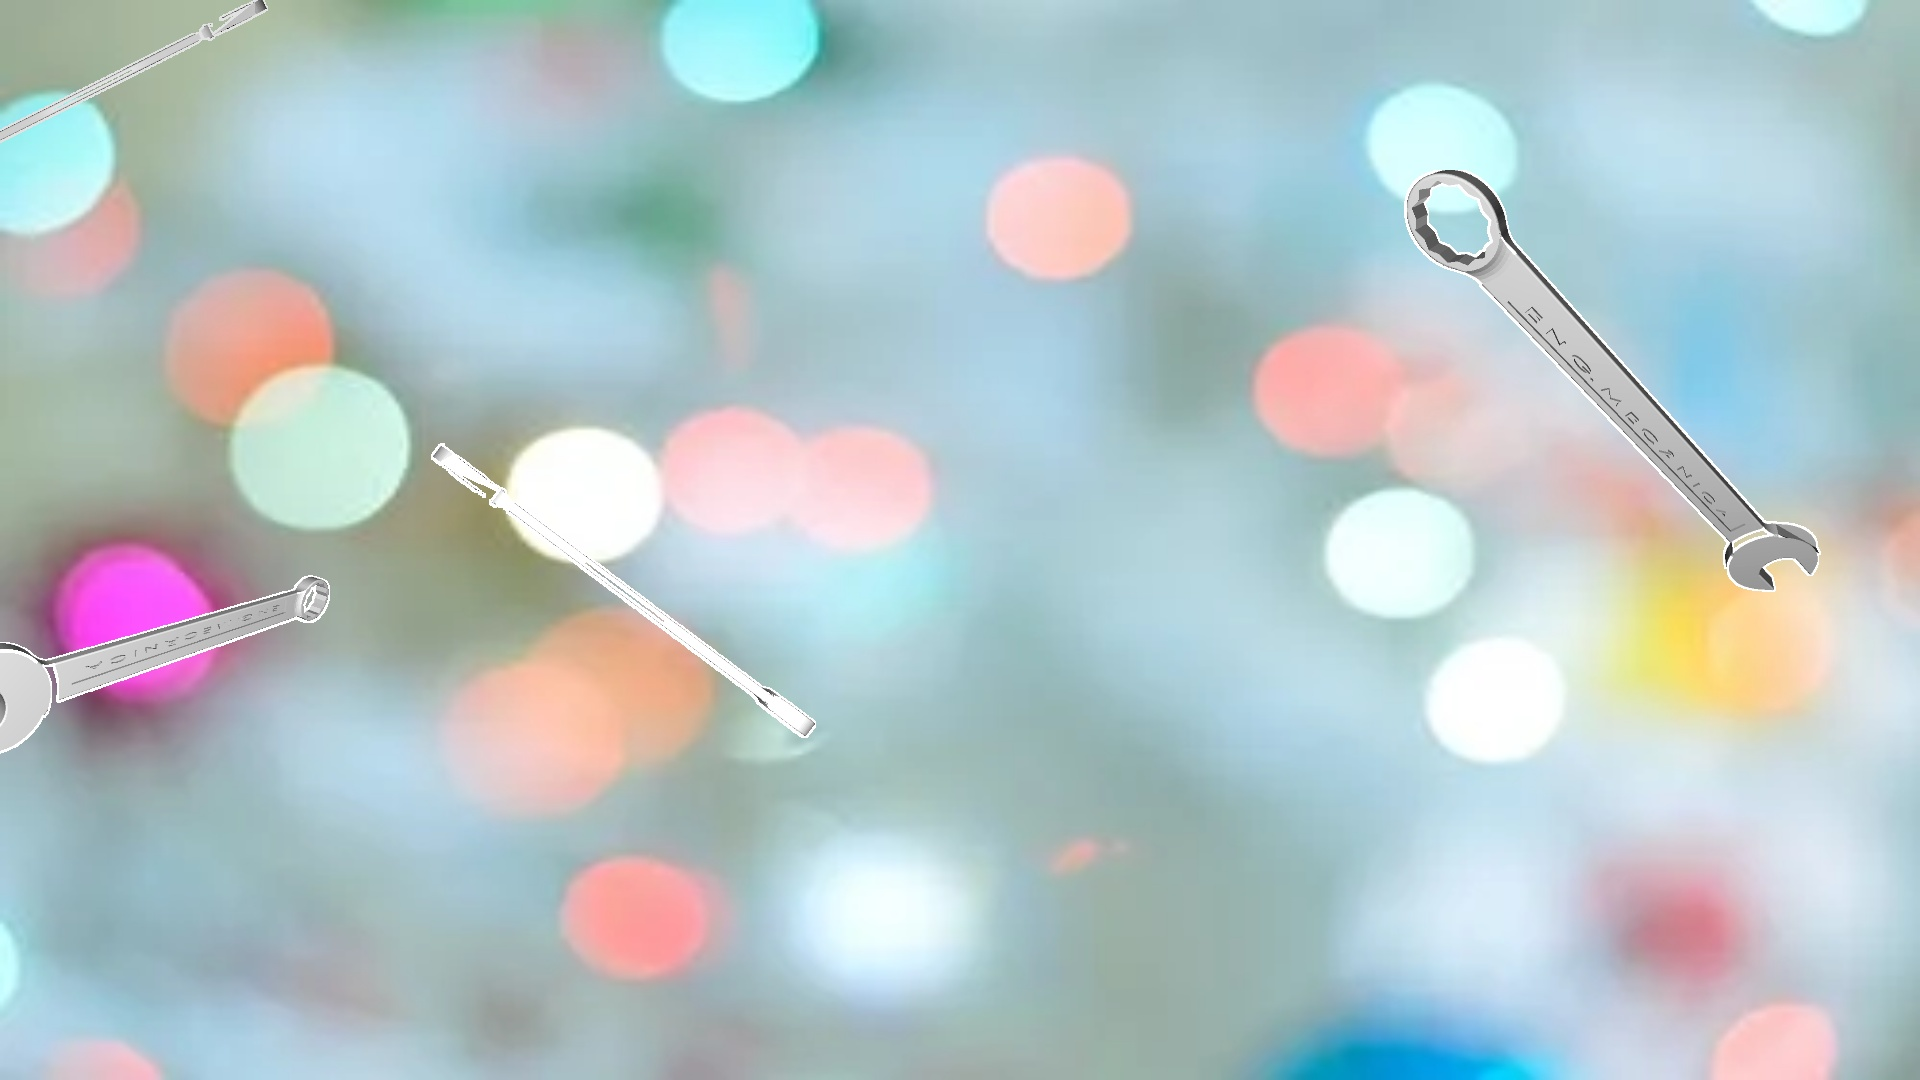Mixed Key: (1404, 170, 1820, 591), (431, 443, 815, 737), (0, 575, 328, 753), (0, 0, 266, 142)
